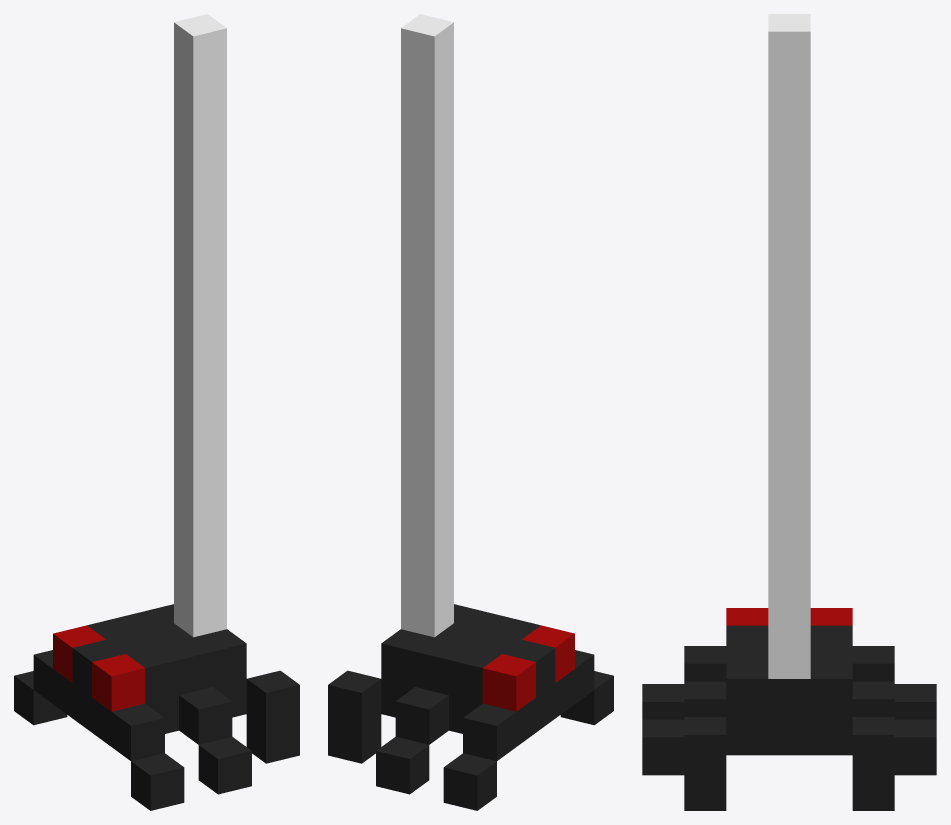
File: spider.obj
3 views of the same model, side by side, from view 1: azimuth 30°, elevation 25°; view 2: azimuth 150°, elevation 25°; view 3: azimuth 270°, elevation 25° (orthographic). The views are drawn at different scales.
Bounding box in the file's own units: 0.5 × 2 × 0.7.
